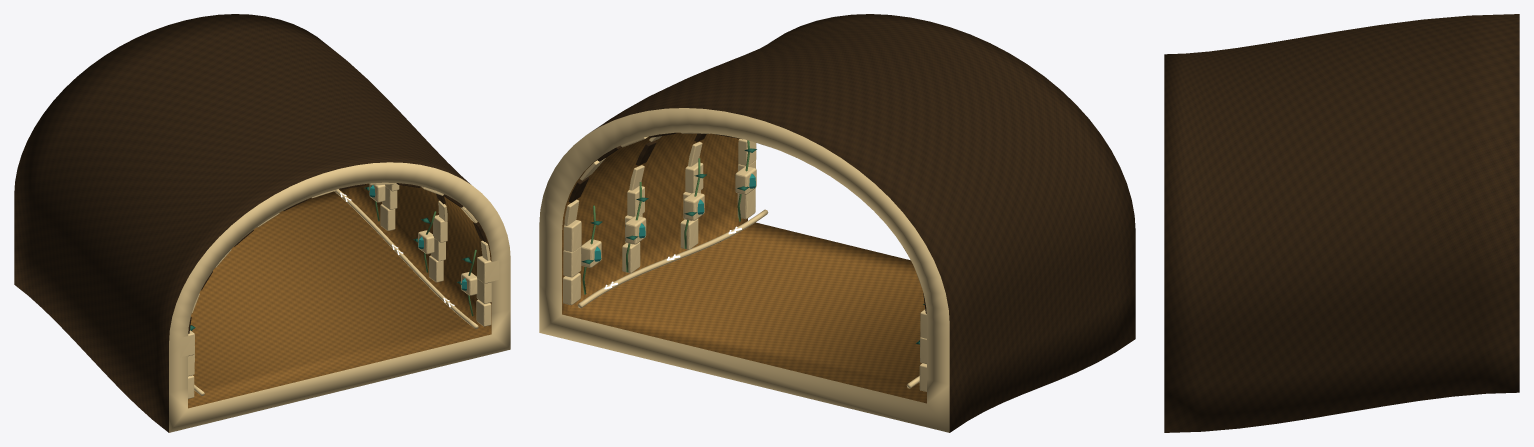
The model's file is grade_up.glb.
The picture shows the model from 3 angles, left to right: view 1: azimuth 30°, elevation 25°; view 2: azimuth 150°, elevation 25°; view 3: azimuth 270°, elevation 25°; orthographic projection. The views are drawn at different scales.
Visible parts, largest first — view 1: TunnelGeometry; view 2: TunnelGeometry; view 3: TunnelGeometry.
Boxes of the visible parts, x1=… form: TunnelGeometry: x1=14, y1=14, x2=510, y2=432; TunnelGeometry: x1=539, y1=14, x2=1135, y2=432; TunnelGeometry: x1=1164, y1=14, x2=1519, y2=432.
Bounding box in the file's own units: 15.3 × 11.02 × 12.
7 materials, 2 textured.
